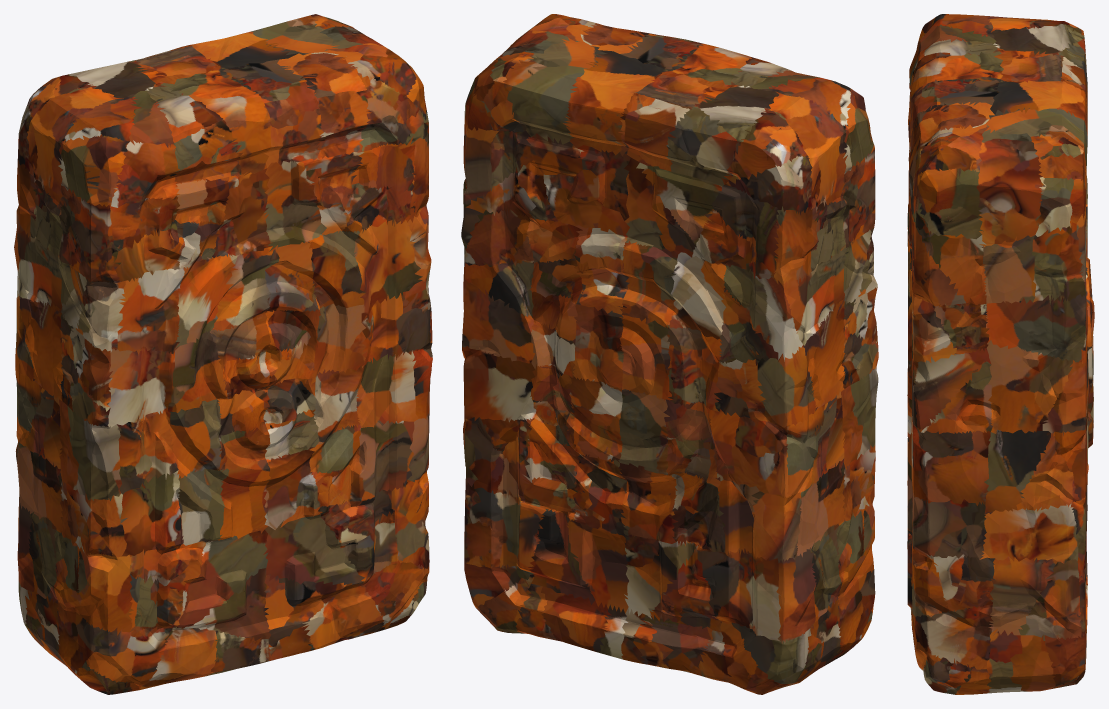
File: Reliquia1.fbx
3 views of the same model, side by side, from view 1: azimuth 30°, elevation 25°; view 2: azimuth 150°, elevation 25°; view 3: azimuth 270°, elevation 25° (orthographic). The views are drawn at different scales.
Visible parts, largest first — view 1: temp; view 2: temp; view 3: temp.
Part boxes in pixels (x1,y1,x2,y2): temp: (14,14,432,694); temp: (461,14,878,694); temp: (907,14,1094,694).
Size of the model in its own units: 126 by 200 by 62.08.
